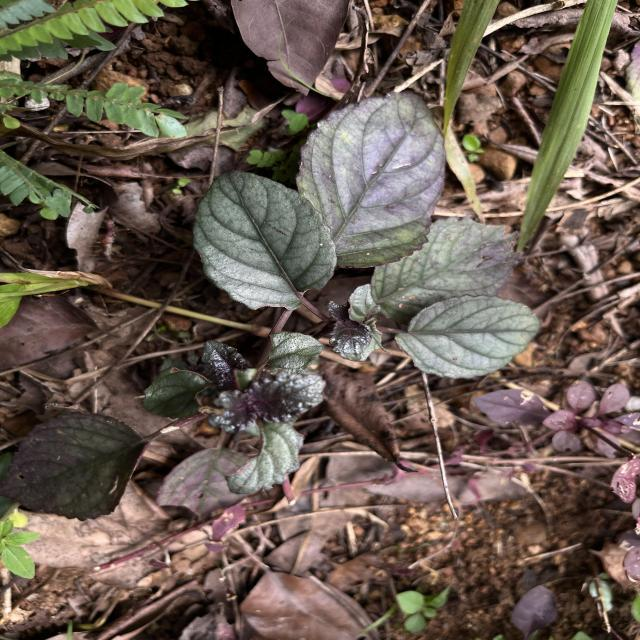Hemigraphis colorata: (289, 89, 449, 271), (188, 167, 340, 315), (367, 214, 525, 327), (4, 410, 154, 524), (391, 293, 545, 381)
